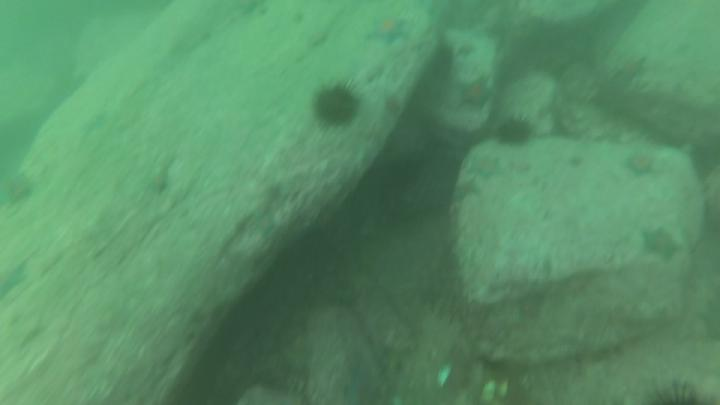echinus: (309, 79, 366, 133), (640, 377, 720, 405), (496, 111, 537, 151), (430, 41, 458, 75)
starfish: (361, 10, 412, 48), (640, 225, 685, 268), (454, 73, 500, 115), (1, 256, 32, 304), (512, 287, 550, 325), (466, 153, 505, 185), (696, 297, 720, 348), (624, 148, 660, 178), (448, 178, 482, 209)
